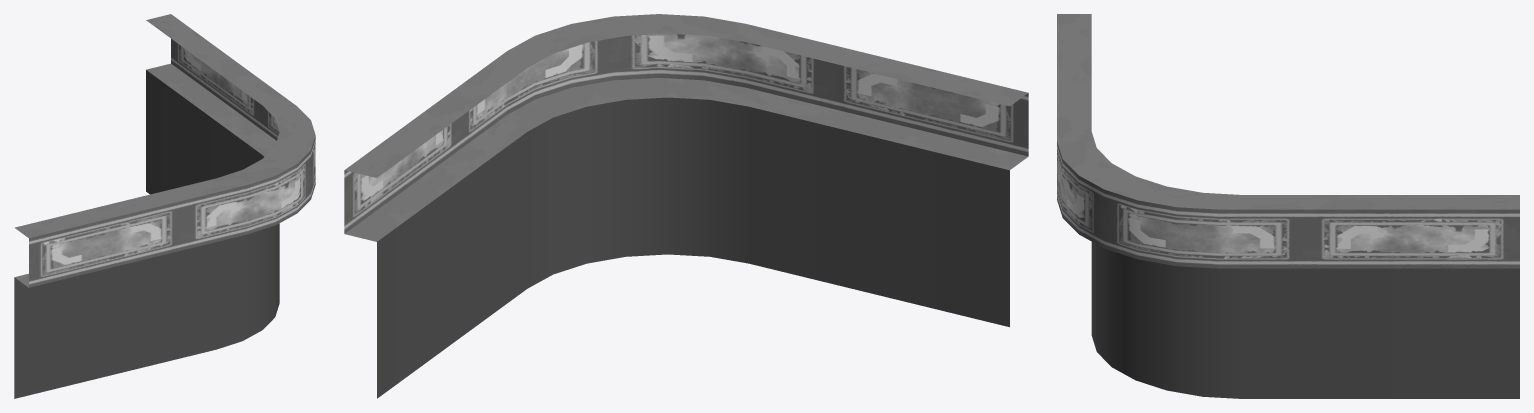
File: WallCornerConvexRounded_A.fbx
3 views of the same model, side by side, from view 1: azimuth 30°, elevation 25°; view 2: azimuth 150°, elevation 25°; view 3: azimuth 270°, elevation 25° (orthographic). The views are drawn at different scales.
Parts seen in each view (by area): view 1: WallCornerConvexRounded_A; view 2: WallCornerConvexRounded_A; view 3: WallCornerConvexRounded_A.
Boxes of the visible parts, bbox=[...] form: WallCornerConvexRounded_A: bbox=[14, 14, 315, 398]; WallCornerConvexRounded_A: bbox=[344, 14, 1028, 398]; WallCornerConvexRounded_A: bbox=[1057, 14, 1519, 398].
Bounding box in the file's own units: 10.81 × 5.26 × 10.81.
